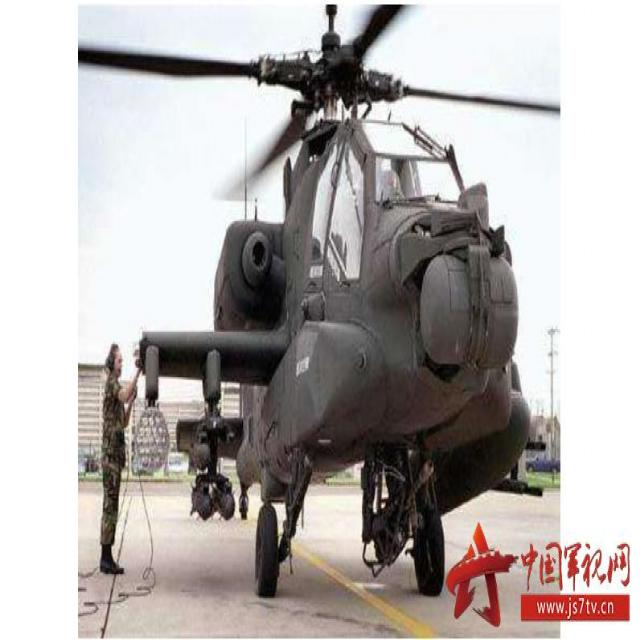MIL_HELO: (103, 17, 538, 576)
